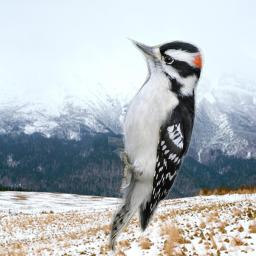Woodpecker: (108, 31, 212, 254)
